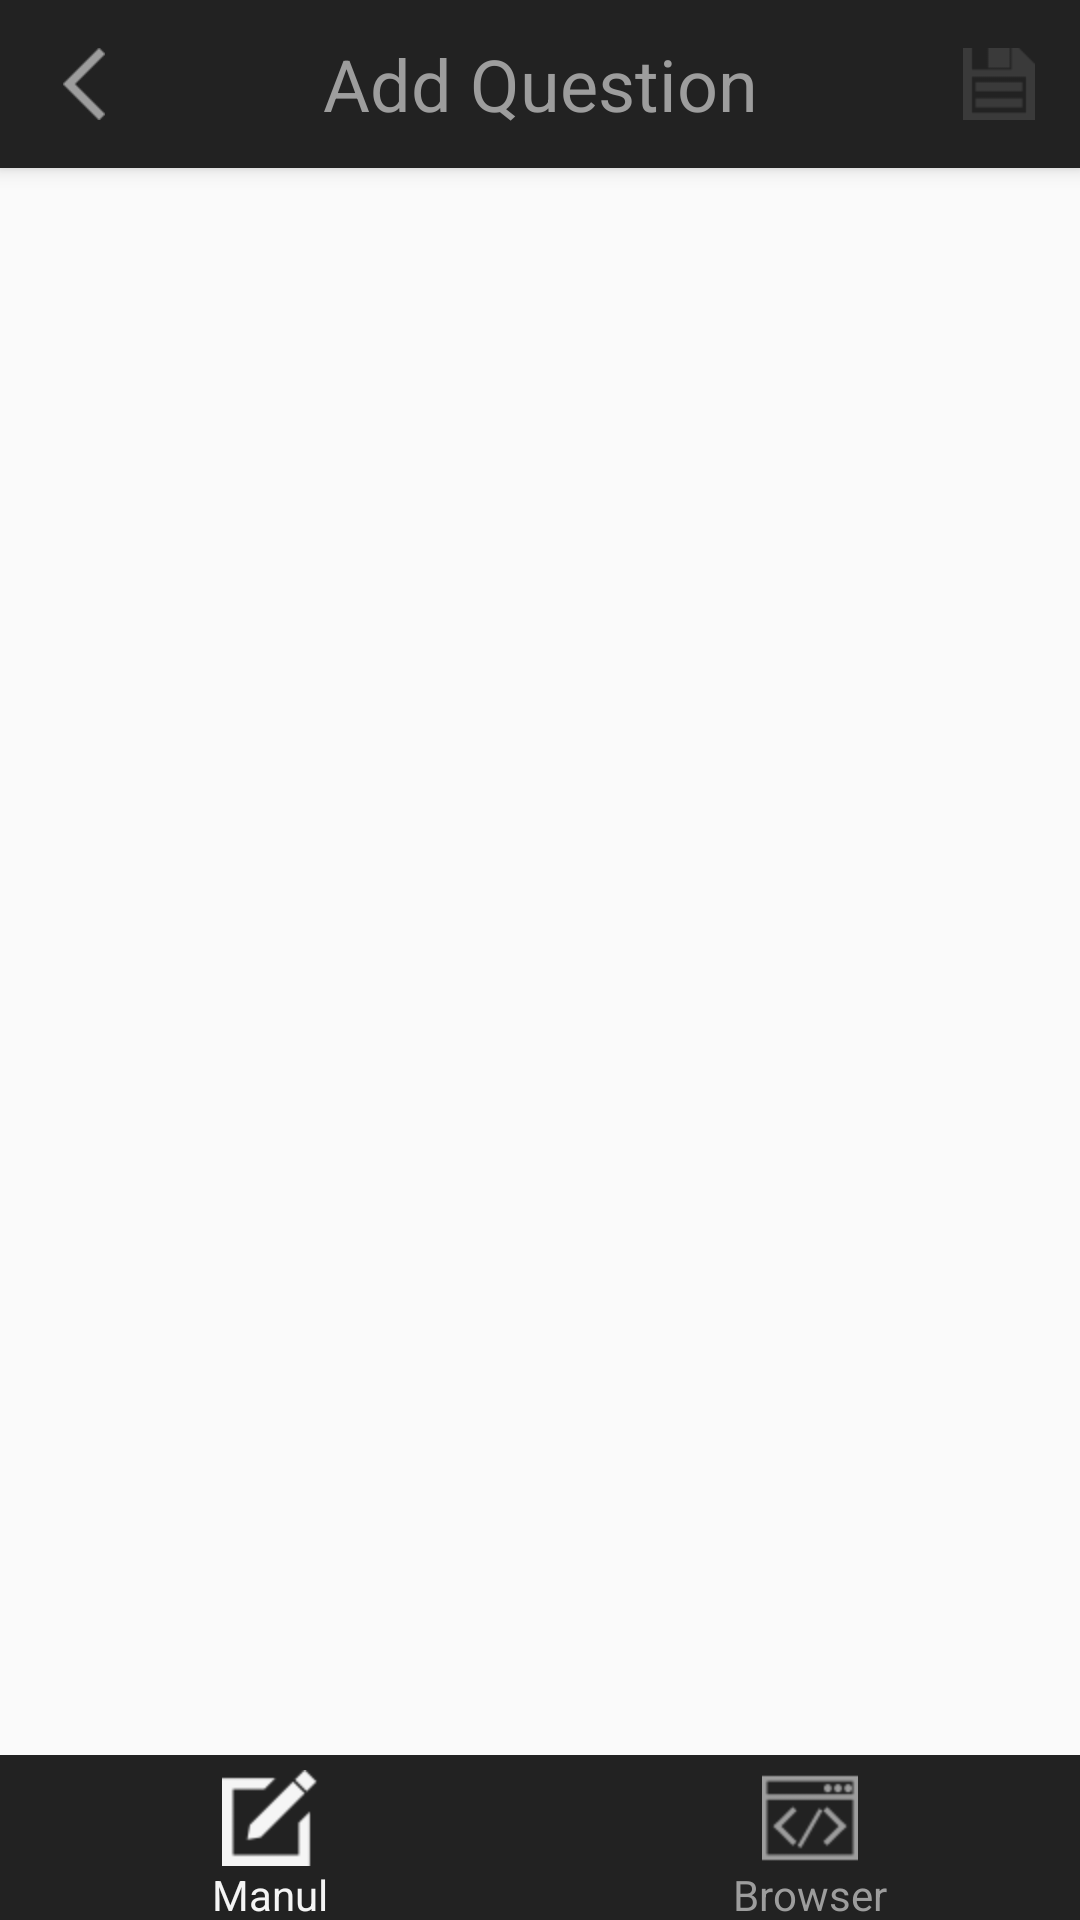

Where to tap for icons on this 1080px x 1920px app screen, as [x,y]:
back: [84,84]
